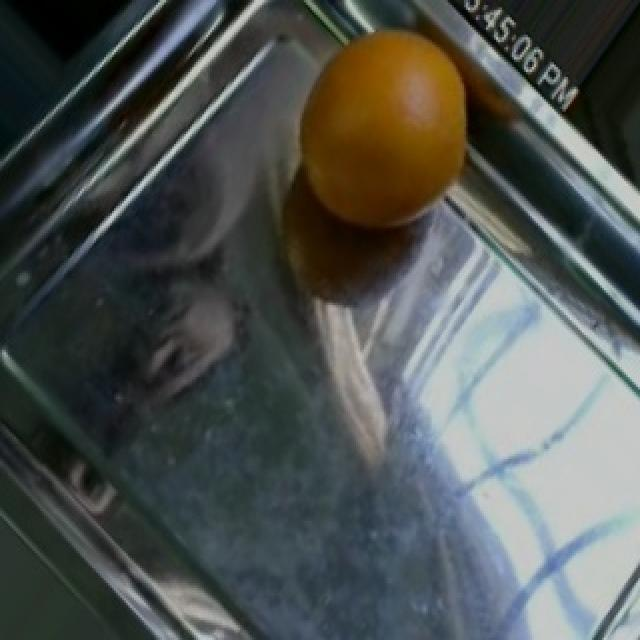Fruit: (268, 15, 494, 255)
